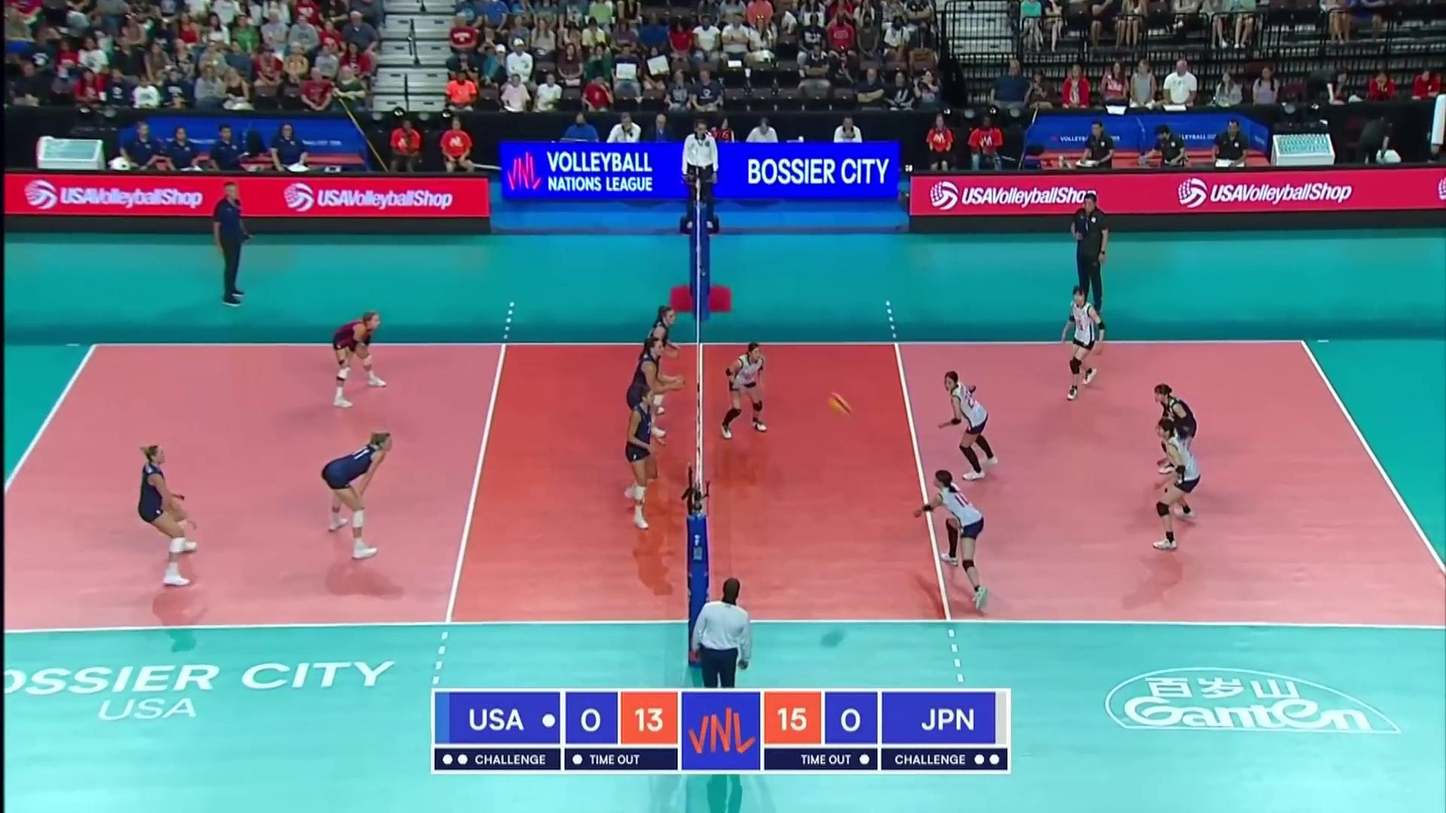player: (921, 464, 995, 613), (316, 432, 392, 560), (136, 444, 201, 586), (936, 375, 1004, 486), (1152, 415, 1201, 551), (622, 390, 669, 529), (1062, 281, 1111, 402), (327, 313, 387, 408), (716, 342, 773, 435), (630, 339, 671, 464), (639, 303, 680, 422), (1148, 381, 1195, 484)
refree: (686, 581, 751, 754), (680, 124, 719, 229)
